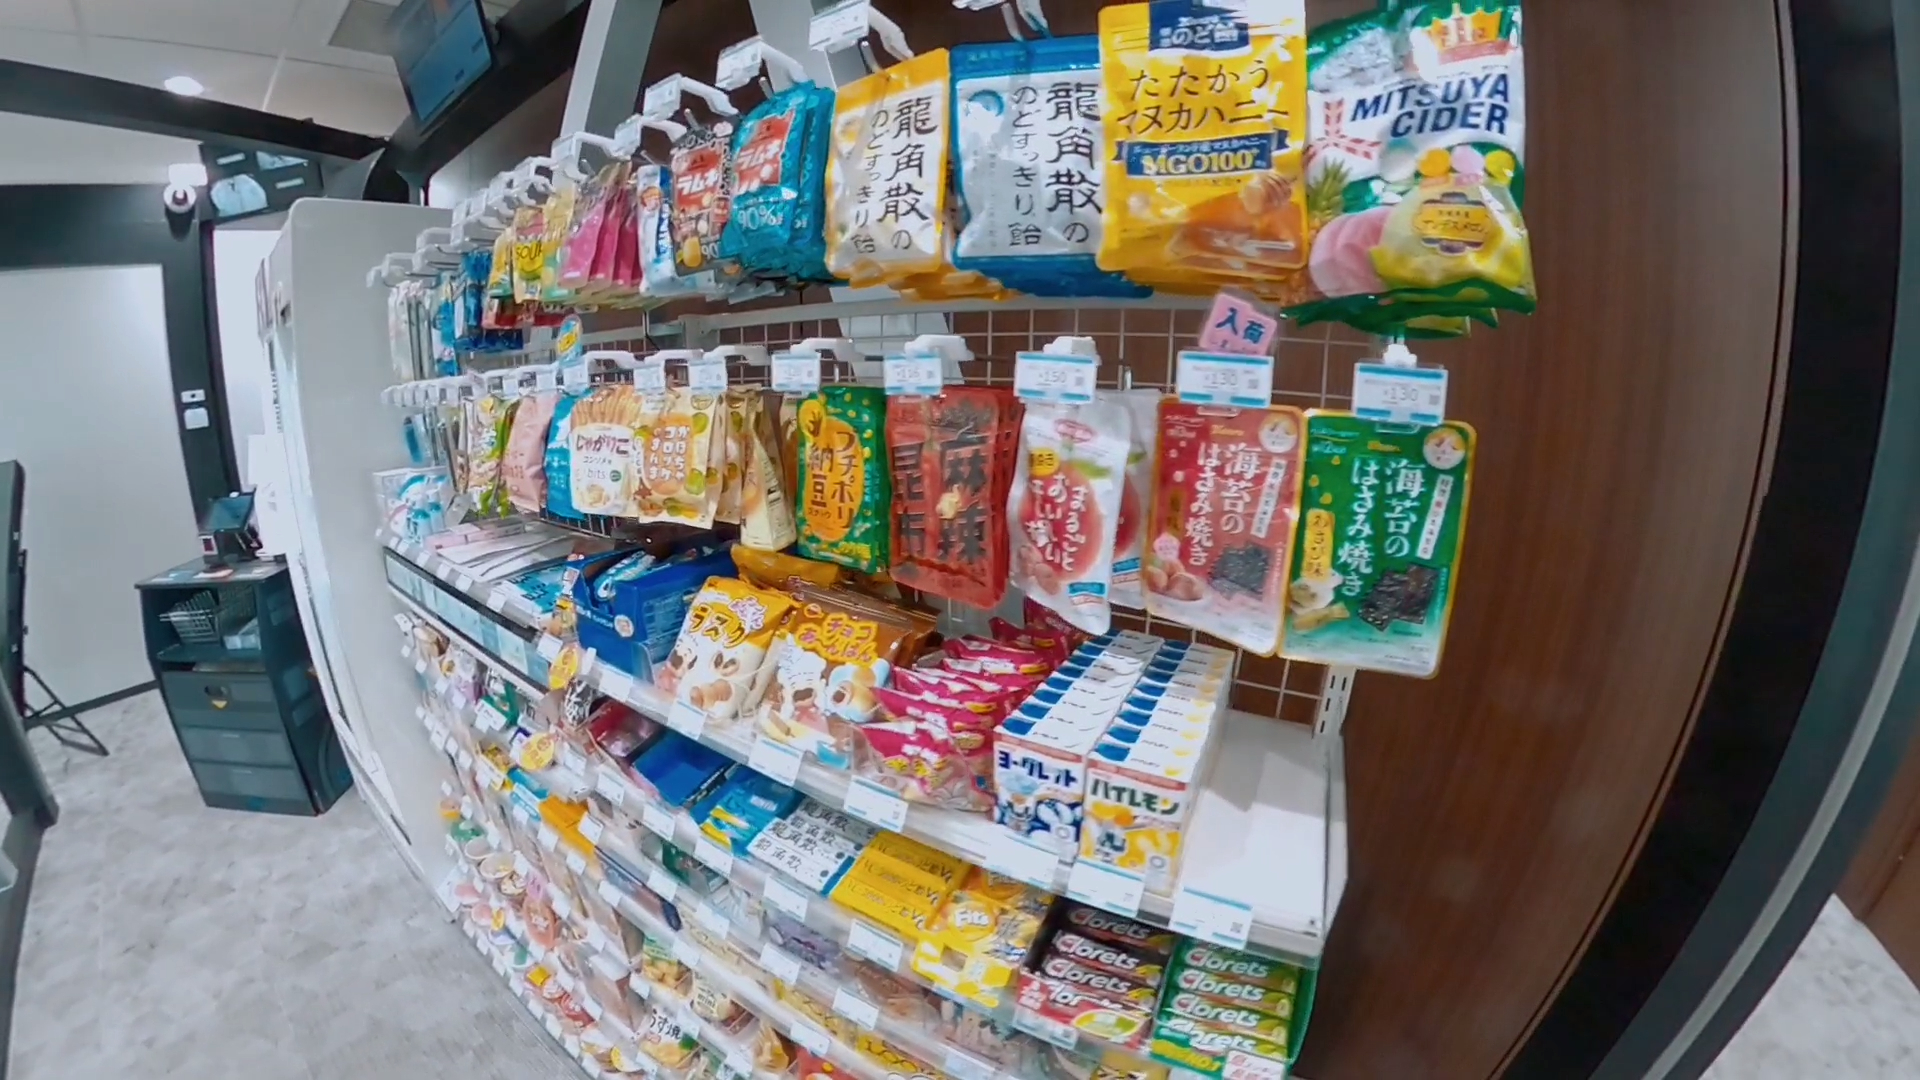NorinoHasamiyaki: (1282, 409, 1471, 674)
